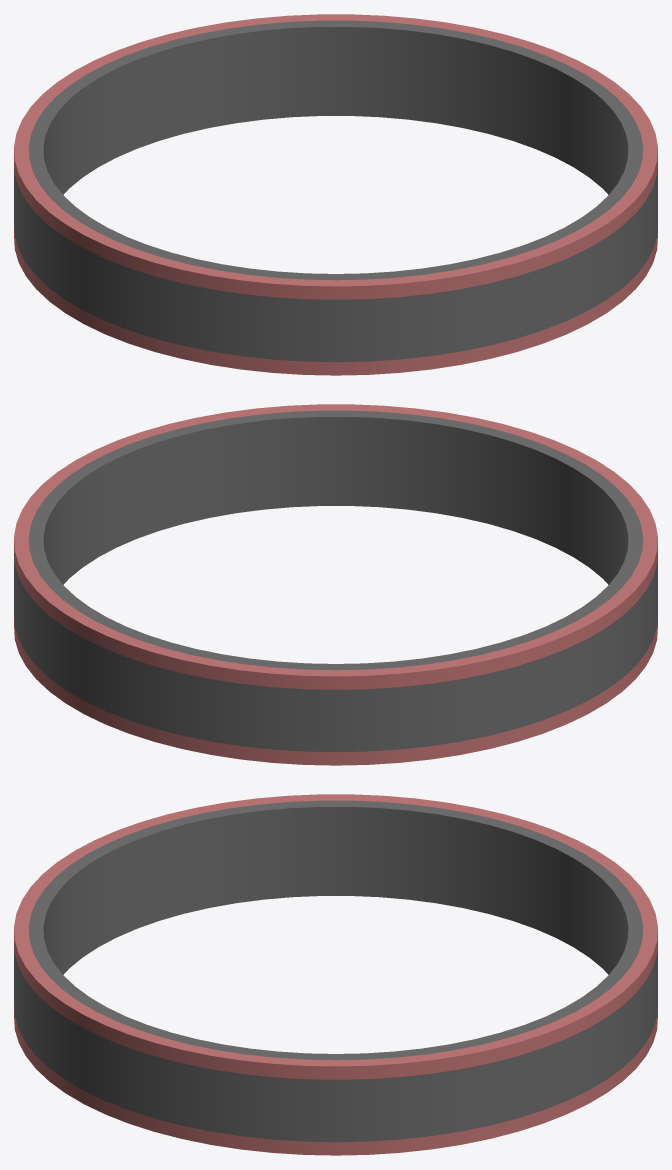
Rendered from step_02.glb.
The picture shows the model from 3 angles, top to bottom: view 1: azimuth 30°, elevation 25°; view 2: azimuth 150°, elevation 25°; view 3: azimuth 270°, elevation 25°; orthographic projection.
Visible parts, largest first — view 1: part__fender ring, removed__fender ring; view 2: part__fender ring, removed__fender ring; view 3: part__fender ring, removed__fender ring.
Part boxes in pixels (<box>): part__fender ring: <box>14,20,657,362</box>; removed__fender ring: <box>14,14,657,375</box>; part__fender ring: <box>14,410,657,752</box>; removed__fender ring: <box>14,404,657,765</box>; part__fender ring: <box>14,800,657,1142</box>; removed__fender ring: <box>14,794,657,1155</box>.
Bounding box in the file's own units: 524 × 80 × 524.
